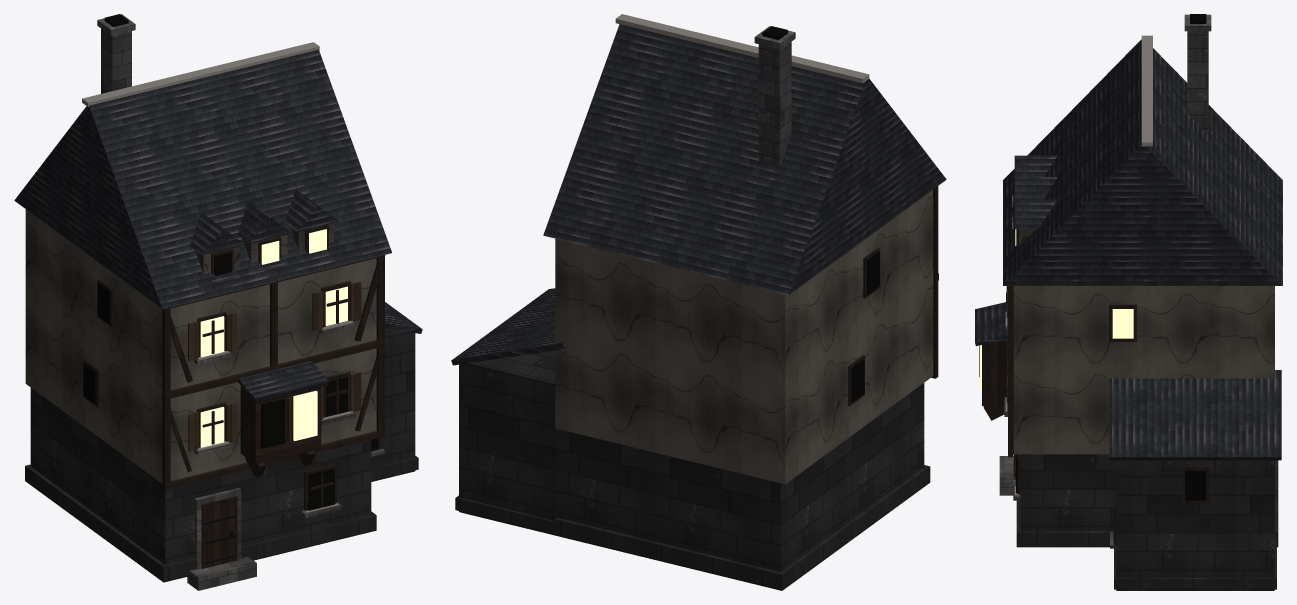
File: CasaB21.gltf
3 views of the same model, side by side, from view 1: azimuth 30°, elevation 25°; view 2: azimuth 150°, elevation 25°; view 3: azimuth 270°, elevation 25° (orthographic). The views are drawn at different scales.
Parts seen in each view (by area): view 1: CasaB21; view 2: CasaB21; view 3: CasaB21.
Boxes of the visible parts, x1,y1,x2,y2 form: CasaB21: (14,14,422,590); CasaB21: (451,14,946,590); CasaB21: (975,14,1282,590).
Bounding box in the file's own units: 11.74 × 17.29 × 10.45.
Materials: 11 (7 with a texture image).
